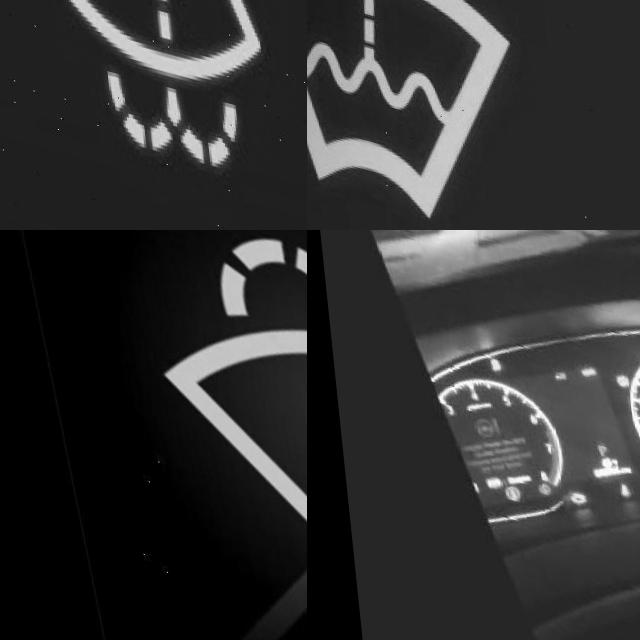Washer Fluid: (141, 230, 307, 582), (307, 0, 519, 223)
